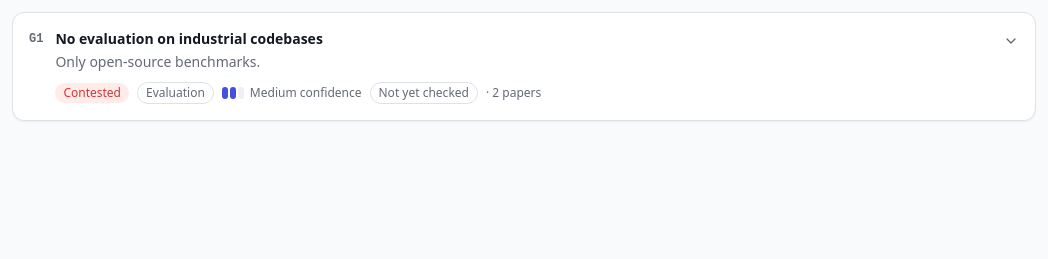
GapCard › shows status and confidence, and loads evidence and history when expanded
expect the heading "No evaluation on industrial codebases" is shown: met, box [55, 29, 323, 48]
expect the text "Contested" is shown: met, box [55, 83, 129, 103]
Click the button. click: (189, 38)
box: [13, 13, 1035, 120]
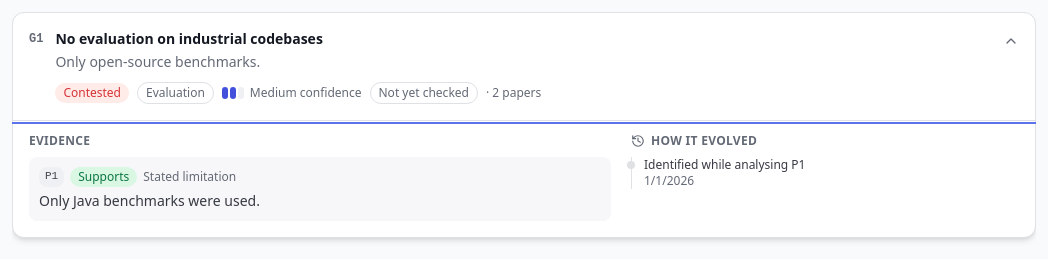
expect the text "Only Java benchmarks were used." is shown: met, box [39, 191, 260, 210]
expect the text "Identified while analysing P1" is shown: met, box [644, 156, 806, 173]
expect the text "Stated limitation" is shown: met, box [143, 169, 236, 185]
